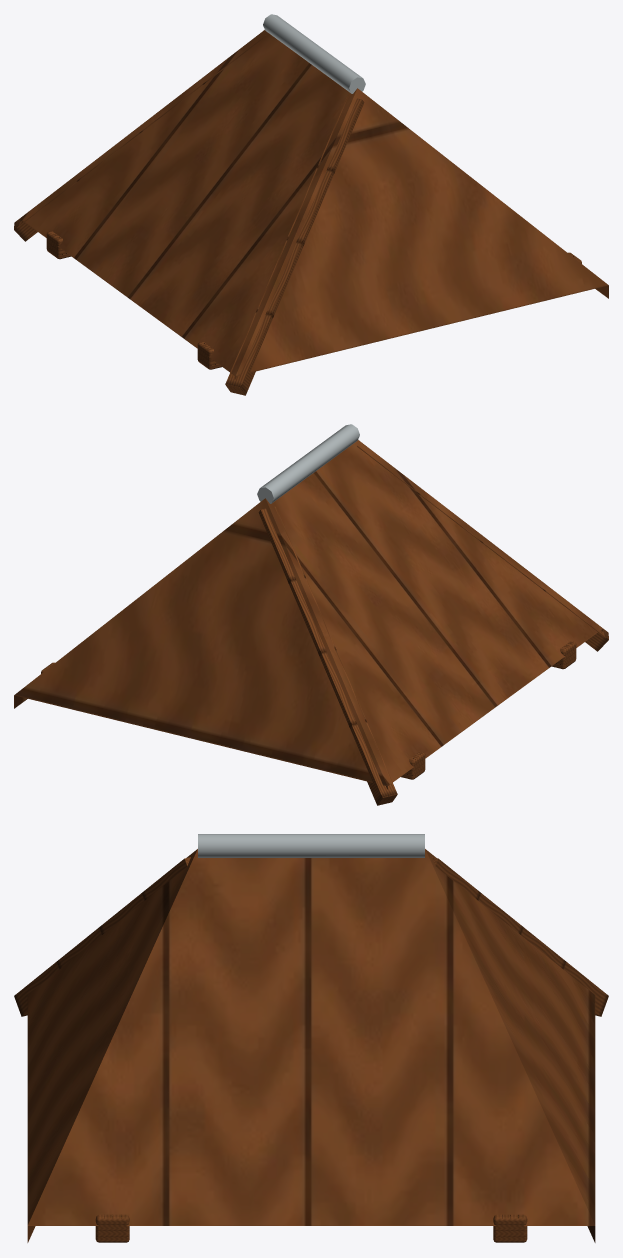
The model's file is modular-survival-base-builder-roof-hip-corner-76a6d5ec__24175.glb.
3 renders of one model, top to bottom at view 1: azimuth 30°, elevation 25°; view 2: azimuth 150°, elevation 25°; view 3: azimuth 270°, elevation 25°, orthographic. The views are drawn at different scales.
Visible parts, largest first — view 1: roof-hip-corner; view 2: roof-hip-corner; view 3: roof-hip-corner.
Boxes of the visible parts, box(x1,y1,x2,y2) form: roof-hip-corner: box(14, 14, 608, 395); roof-hip-corner: box(14, 424, 608, 805); roof-hip-corner: box(14, 834, 608, 1242).
Bounding box in the file's own units: 2.04 × 1.16 × 2.1.
2 materials, 1 textured.
